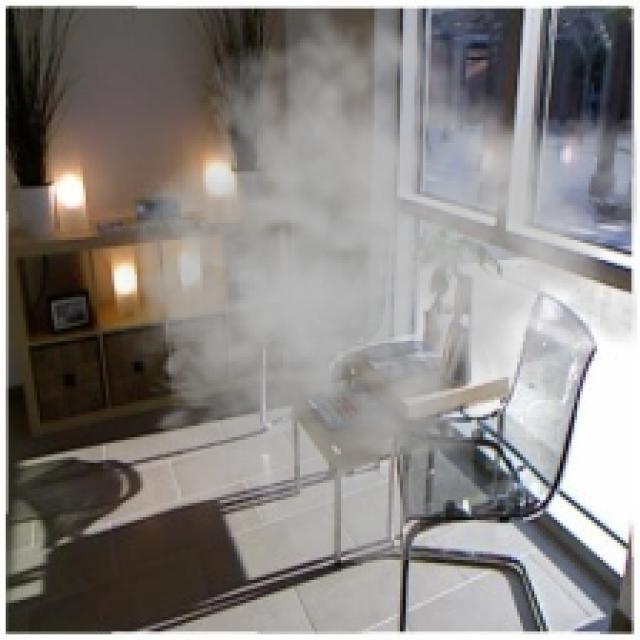smoke: (83, 3, 637, 566)
